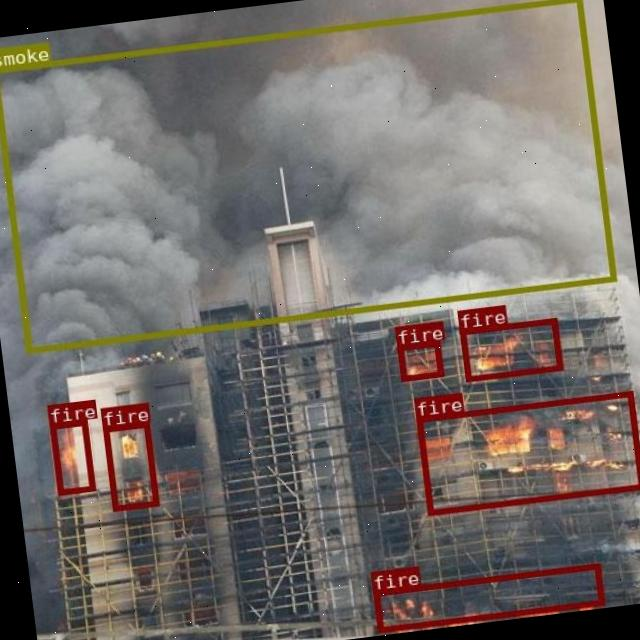fire: (414, 389, 640, 514), (372, 563, 602, 631), (459, 316, 561, 381), (101, 422, 158, 511), (49, 418, 94, 494), (397, 340, 442, 380)
smoke: (0, 0, 615, 351)
